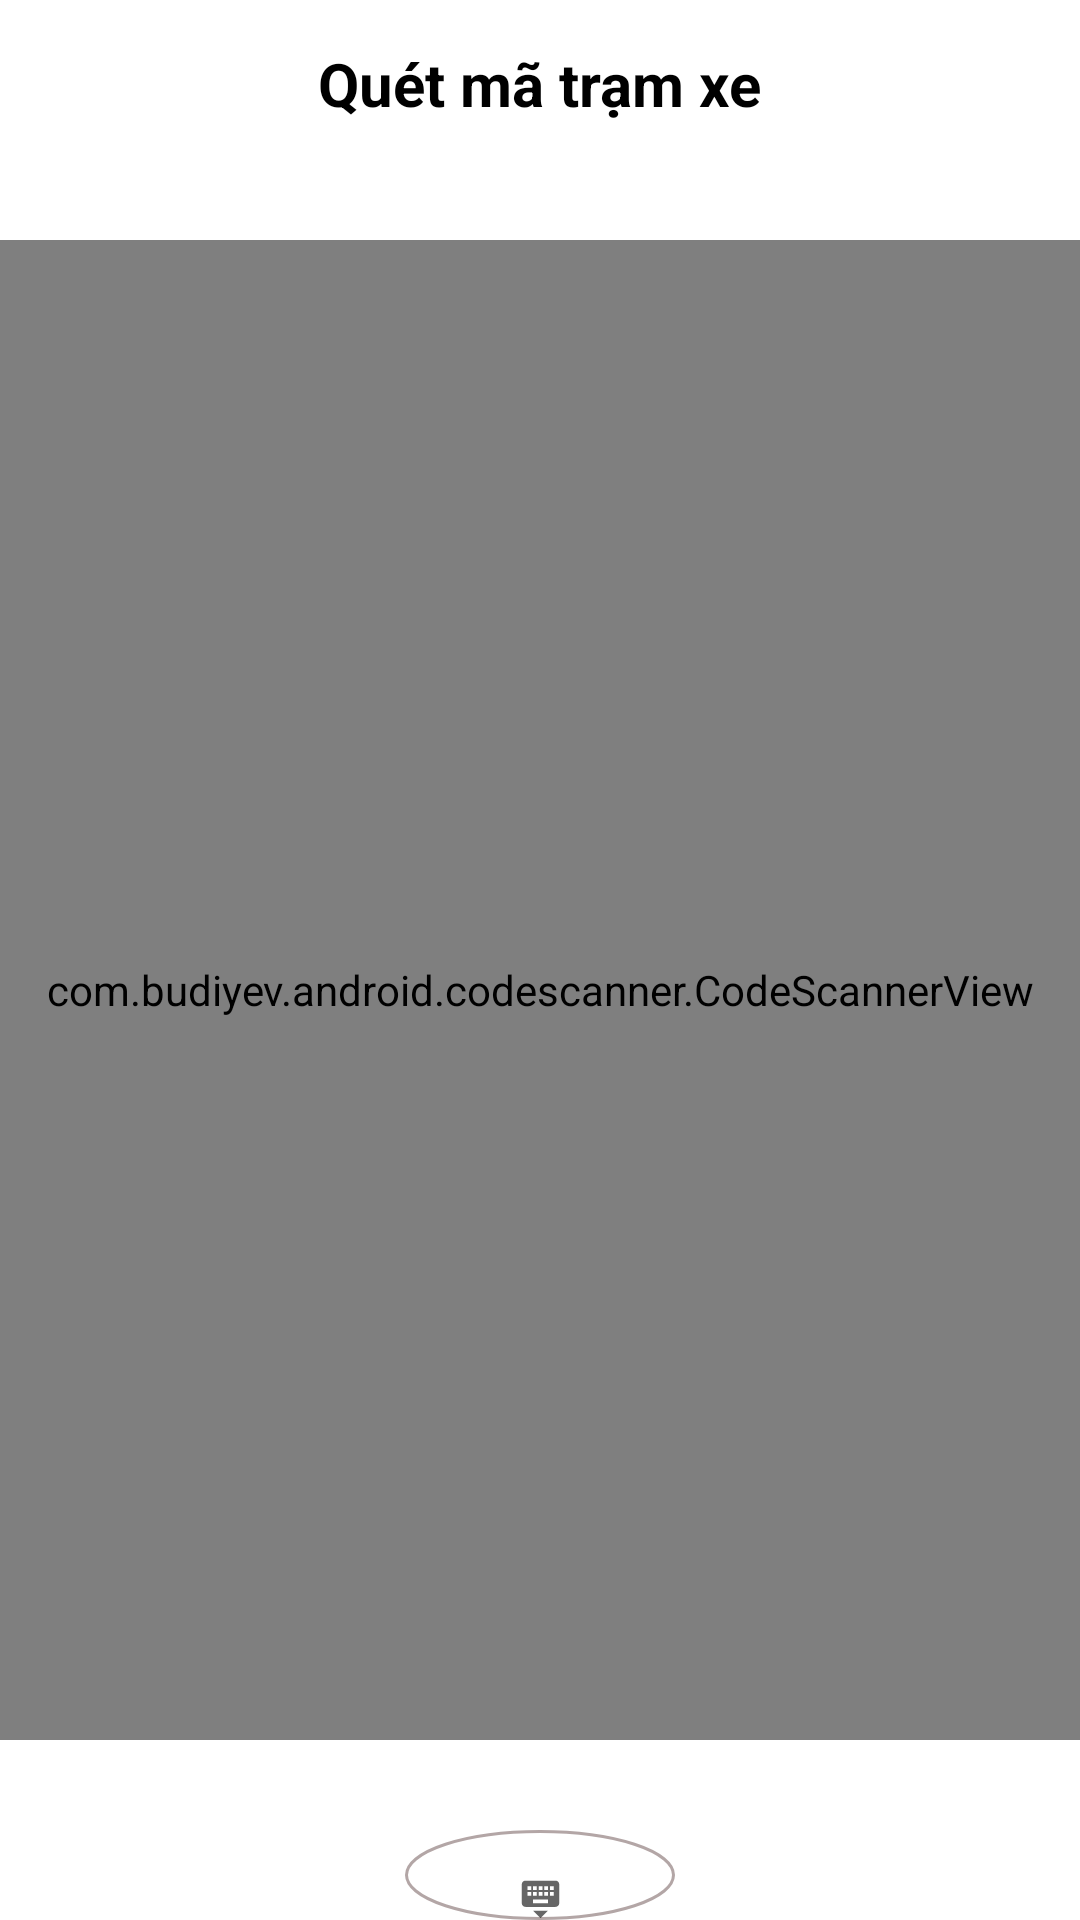

Where to tap for icons on this 1080x1920 app screen, as (x=x, y=y):
keyboard: (x=540, y=1893)
